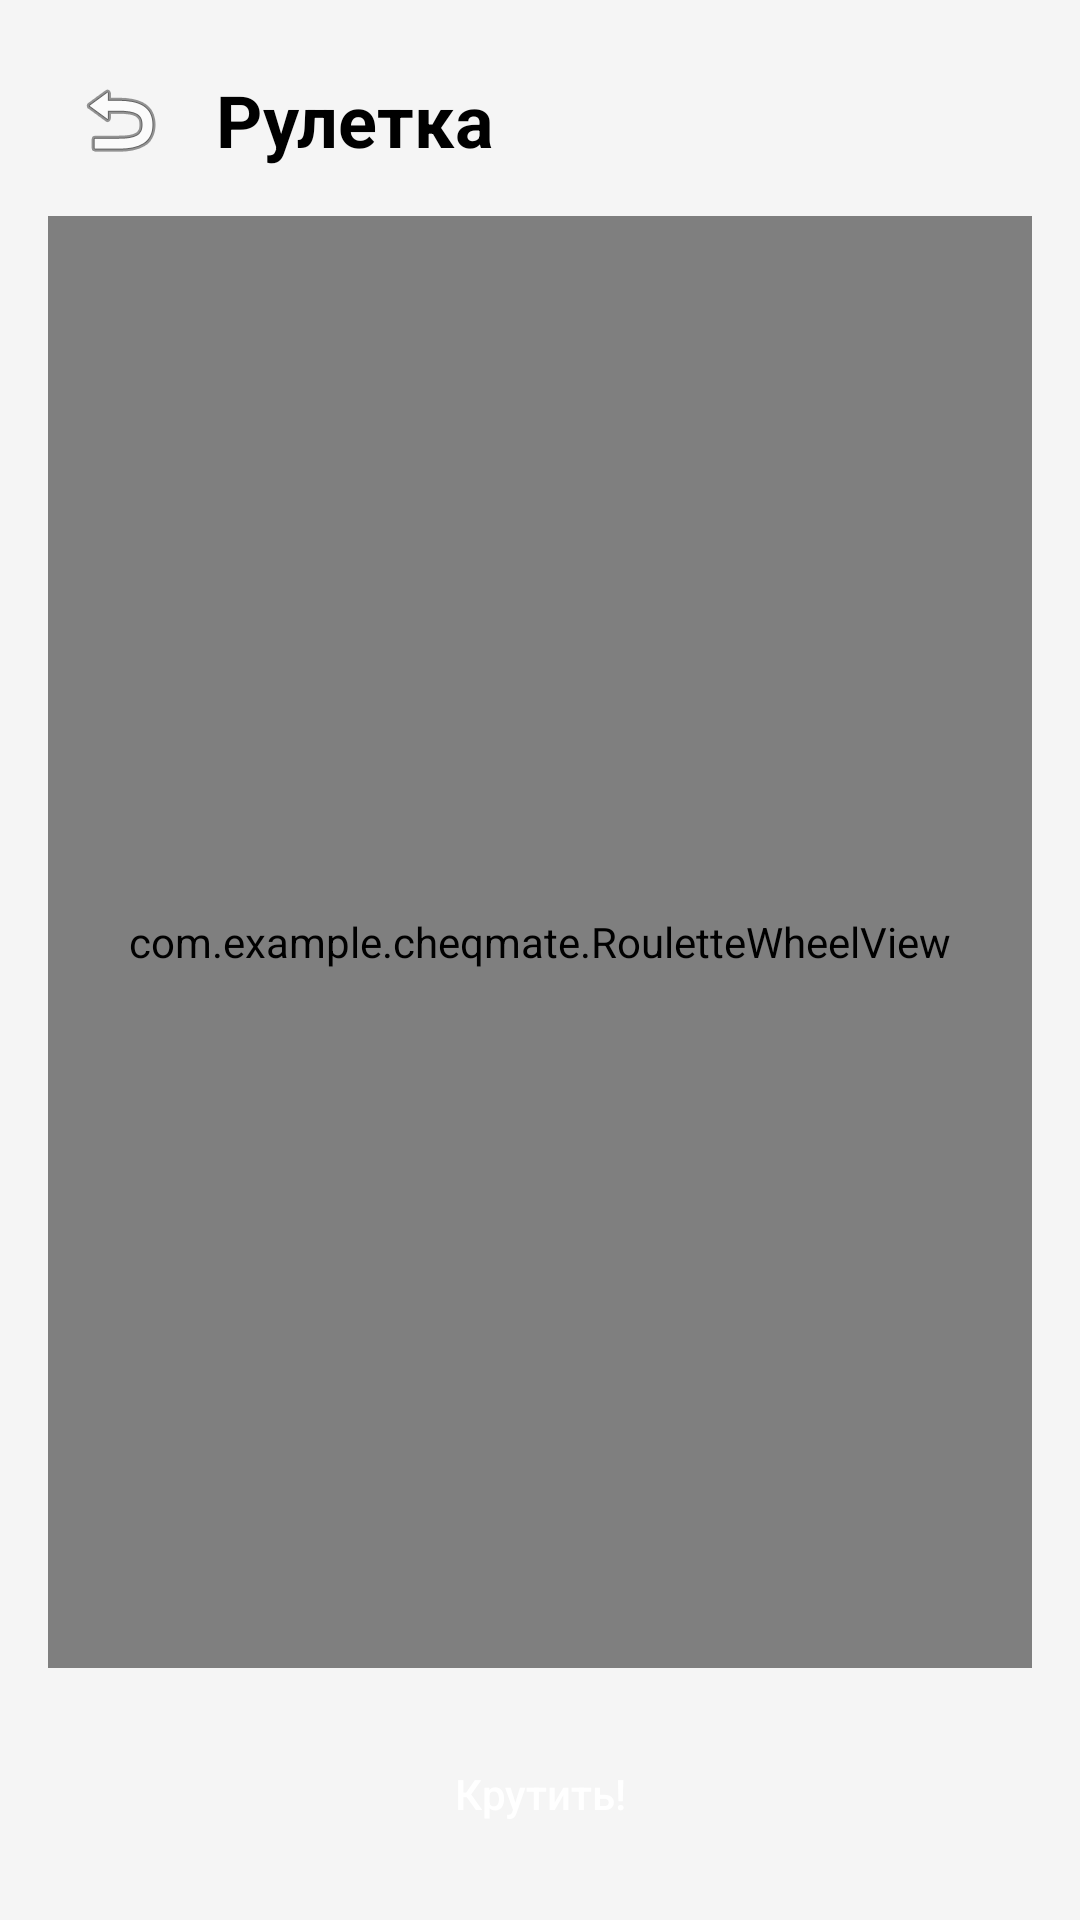

Locate icon controls on the screen. Image size 1080px x 1920px, boxes as bbox=[x1, y1, x2, y2].
Назад: bbox=[87, 89, 156, 152]
